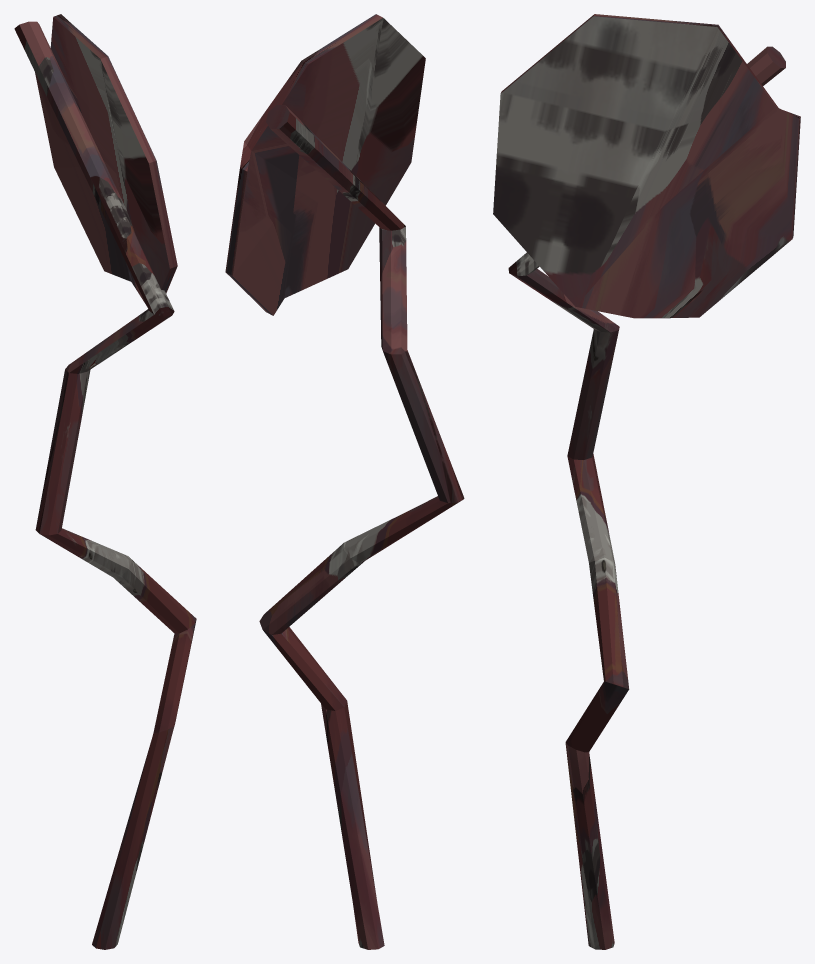
File: road sign 3.fbx
3 renders of one model, left to right at view 1: azimuth 30°, elevation 25°; view 2: azimuth 150°, elevation 25°; view 3: azimuth 270°, elevation 25°, orthographic. The views are drawn at different scales.
Parts seen in each view (by area): view 1: road sign 3; view 2: road sign 3; view 3: road sign 3.
Part boxes in pixels (x1,y1,x2,y2): road sign 3: (14, 14, 196, 949); road sign 3: (225, 14, 464, 949); road sign 3: (493, 14, 800, 949).
Bounding box in the file's own units: 317 × 1545 × 465.
